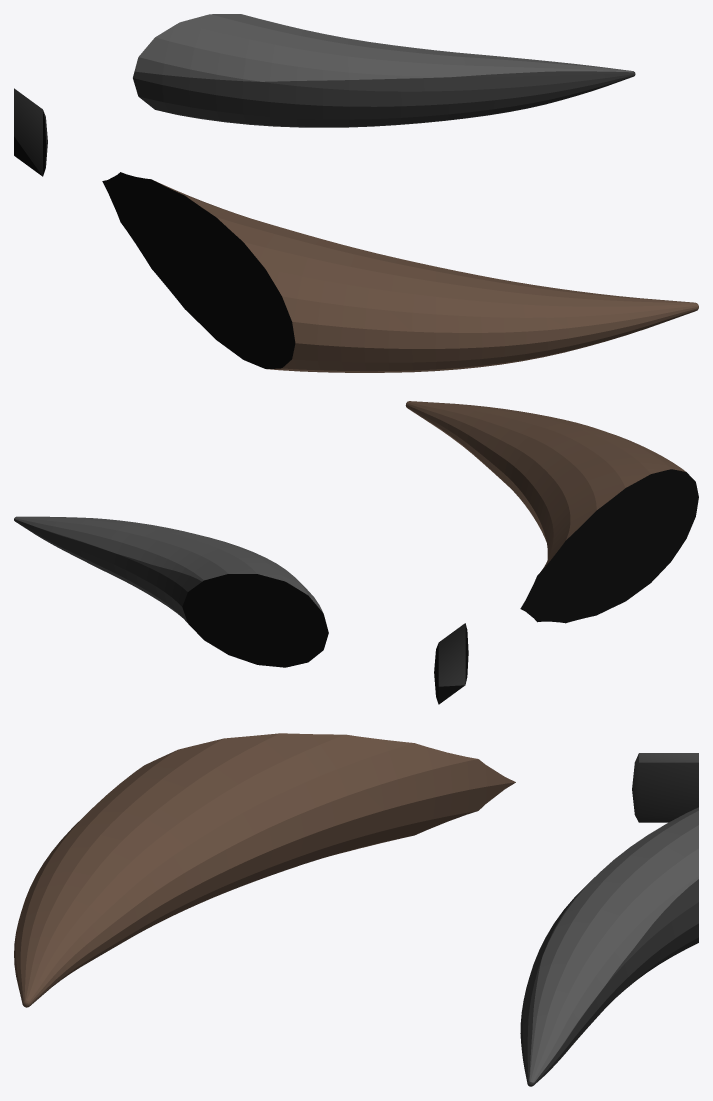
The model's file is tusk_boss_126.glb.
3 views of the same model, one above another, from view 1: azimuth 30°, elevation 25°; view 2: azimuth 150°, elevation 25°; view 3: azimuth 270°, elevation 25° (orthographic). The views are drawn at different scales.
Parts seen in each view (by area): view 1: tusk_boss_126; view 2: tusk_boss_126; view 3: tusk_boss_126.
Part boxes in pixels (x1,y1,x2,y2): tusk_boss_126: [14, 14, 698, 372]; tusk_boss_126: [14, 401, 698, 704]; tusk_boss_126: [14, 733, 698, 1086].
Bounding box in the file's own units: 21.5 × 4.94 × 22.82.
